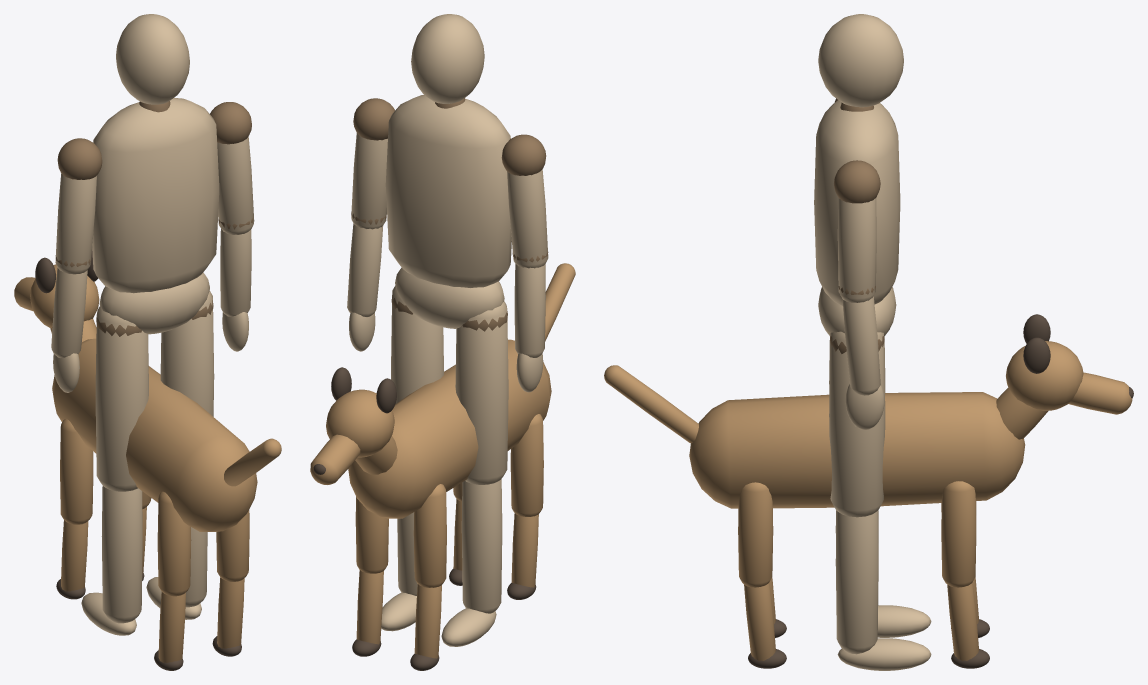
The model's file is creatures.glb.
3 views of the same model, side by side, from view 1: azimuth 30°, elevation 25°; view 2: azimuth 150°, elevation 25°; view 3: azimuth 270°, elevation 25° (orthographic). The views are drawn at different scales.
Visible parts, largest first — view 1: mannequin-chest, dog-torso, mannequin-thigh-l, mannequin-shin-l, mannequin-head, mannequin-upper-arm-l, mannequin-upper-arm-r, mannequin-thigh-r, mannequin-pelvis, mannequin-lower-arm-l, mannequin-lower-arm-r, dog-upper-front-l (+8 smaller); view 2: mannequin-chest, dog-torso, mannequin-thigh-l, dog-head, mannequin-shin-l, mannequin-head, mannequin-upper-arm-l, mannequin-upper-arm-r, mannequin-thigh-r, mannequin-pelvis, mannequin-lower-arm-l, mannequin-lower-arm-r (+9 smaller); view 3: dog-torso, mannequin-chest, dog-head, mannequin-shin-r, mannequin-thigh-r, mannequin-head, mannequin-upper-arm-r, mannequin-lower-arm-r, dog-upper-front-r, dog-upper-hind-r, dog-tail, dog-lower-hind-r (+3 smaller).
Boxes of the visible parts, x1=… form: mannequin-chest: x1=92, y1=97, x2=219, y2=293; dog-torso: x1=52, y1=338, x2=257, y2=531; mannequin-thigh-l: x1=95, y1=306, x2=148, y2=491; mannequin-shin-l: x1=81, y1=486, x2=142, y2=635; mannequin-head: x1=116, y1=14, x2=189, y2=104; mannequin-upper-arm-l: x1=55, y1=138, x2=102, y2=274; mannequin-upper-arm-r: x1=210, y1=102, x2=254, y2=234; mannequin-thigh-r: x1=160, y1=291, x2=214, y2=416; mannequin-pelvis: x1=99, y1=272, x2=209, y2=334; mannequin-lower-arm-l: x1=51, y1=255, x2=91, y2=392; mannequin-lower-arm-r: x1=218, y1=217, x2=253, y2=351; dog-upper-front-l: x1=60, y1=419, x2=93, y2=524; mannequin-chest: x1=385, y1=95, x2=511, y2=287; dog-torso: x1=348, y1=339, x2=551, y2=518; mannequin-thigh-l: x1=455, y1=301, x2=508, y2=484; dog-head: x1=310, y1=367, x2=397, y2=484; mannequin-shin-l: x1=441, y1=479, x2=502, y2=646; mannequin-head: x1=411, y1=14, x2=484, y2=103; mannequin-upper-arm-l: x1=501, y1=134, x2=548, y2=268; mannequin-upper-arm-r: x1=351, y1=98, x2=394, y2=229; mannequin-thigh-r: x1=391, y1=285, x2=443, y2=403; mannequin-pelvis: x1=395, y1=267, x2=504, y2=328; mannequin-lower-arm-l: x1=512, y1=251, x2=548, y2=392; mannequin-lower-arm-r: x1=347, y1=211, x2=386, y2=351; dog-torso: x1=689, y1=392, x2=1025, y2=508; mannequin-chest: x1=814, y1=100, x2=900, y2=305; dog-head: x1=996, y1=314, x2=1133, y2=439; mannequin-shin-r: x1=835, y1=511, x2=931, y2=670; mannequin-thigh-r: x1=829, y1=331, x2=885, y2=517; mannequin-head: x1=818, y1=14, x2=903, y2=107; mannequin-upper-arm-r: x1=834, y1=160, x2=880, y2=302; mannequin-lower-arm-r: x1=838, y1=286, x2=884, y2=429; dog-upper-front-r: x1=941, y1=481, x2=976, y2=587; dog-upper-hind-r: x1=738, y1=482, x2=773, y2=587; dog-tail: x1=604, y1=365, x2=698, y2=443; dog-lower-hind-r: x1=744, y1=582, x2=786, y2=668.
Bounding box in the file's own units: 0.6 × 1.79 × 1.36.
